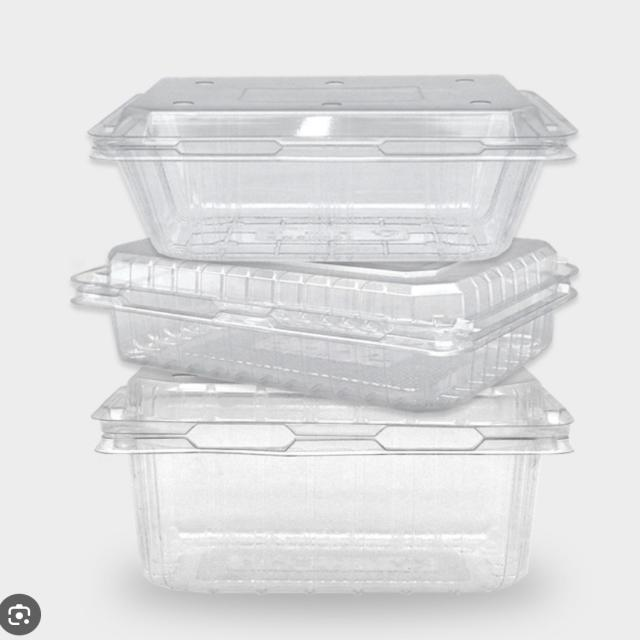recyclable: (87, 368, 592, 610), (77, 61, 592, 273), (57, 224, 587, 415)
